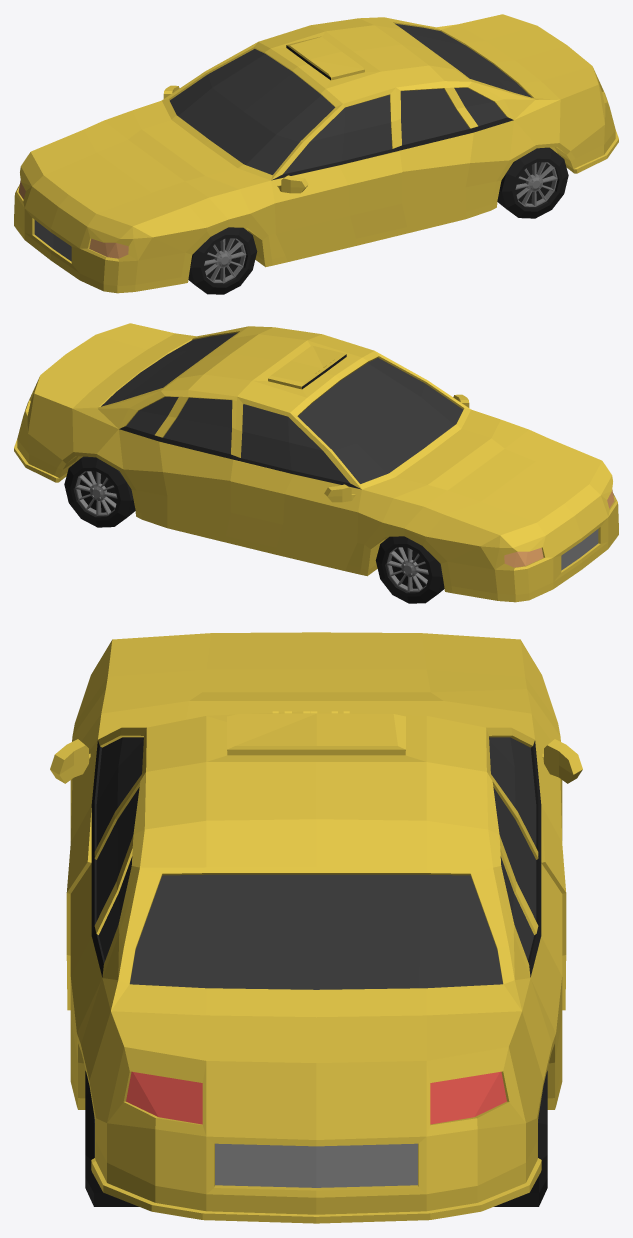
File: TestCar.fbx
The picture shows the model from 3 angles, top to bottom: view 1: azimuth 30°, elevation 25°; view 2: azimuth 150°, elevation 25°; view 3: azimuth 270°, elevation 25°; orthographic projection. The views are drawn at different scales.
Visible parts, largest first — view 1: Taxi; view 2: Taxi; view 3: Taxi.
Boxes of the visible parts, x1=… form: Taxi: x1=14, y1=14, x2=618, y2=294; Taxi: x1=14, y1=323, x2=618, y2=603; Taxi: x1=50, y1=632, x2=582, y2=1223.
Size of the model in its own units: 1126 by 321 by 482.
